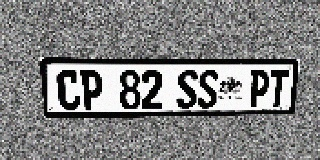2: (142, 70, 163, 109)
8: (119, 70, 141, 109)
C: (56, 70, 81, 110)
P: (80, 70, 103, 110), (248, 70, 270, 107)
S: (197, 70, 219, 108), (177, 70, 198, 108)
T: (267, 70, 290, 107)
